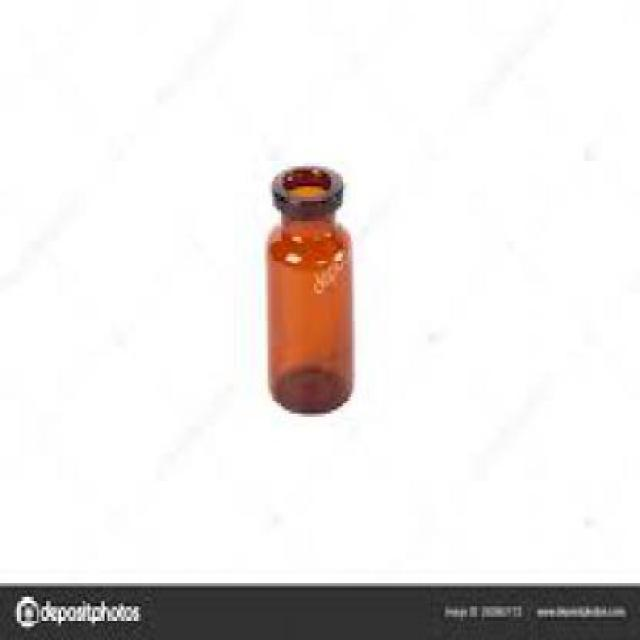kaca: (263, 163, 352, 414)
